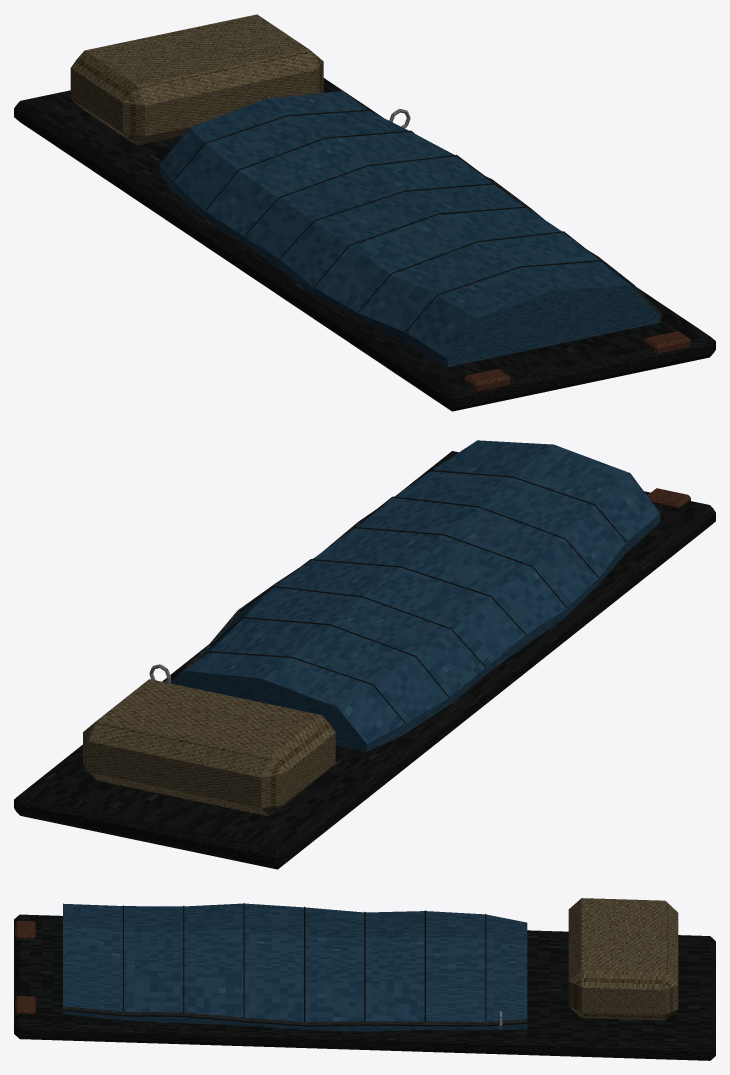
The model's file is level_hc_native_366_0.glb.
The picture shows the model from 3 angles, top to bottom: view 1: azimuth 30°, elevation 25°; view 2: azimuth 150°, elevation 25°; view 3: azimuth 270°, elevation 25°; orthographic projection. The views are drawn at different scales.
Visible parts, largest first — view 1: level_hc_native_366_0; view 2: level_hc_native_366_0; view 3: level_hc_native_366_0.
Part boxes in pixels (left/top/right/bottom): level_hc_native_366_0: left=14, top=14, right=715, bottom=411; level_hc_native_366_0: left=14, top=440, right=715, bottom=869; level_hc_native_366_0: left=14, top=898, right=715, bottom=1060.
Bounding box in the file's own units: 0.66 × 0.2483 × 1.86.
Materials: 6 (6 with a texture image).
